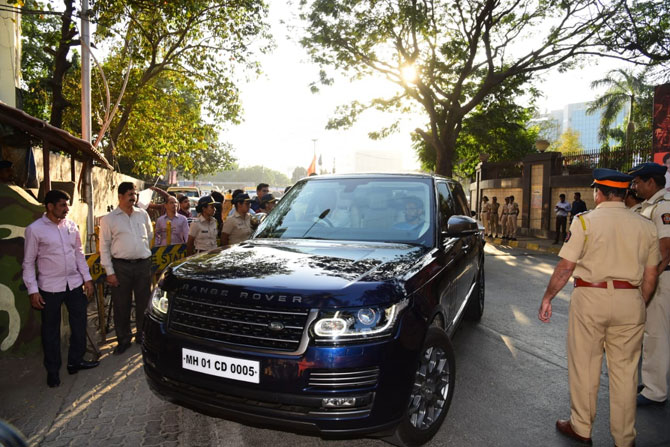numberplate: (179, 346, 262, 383)
